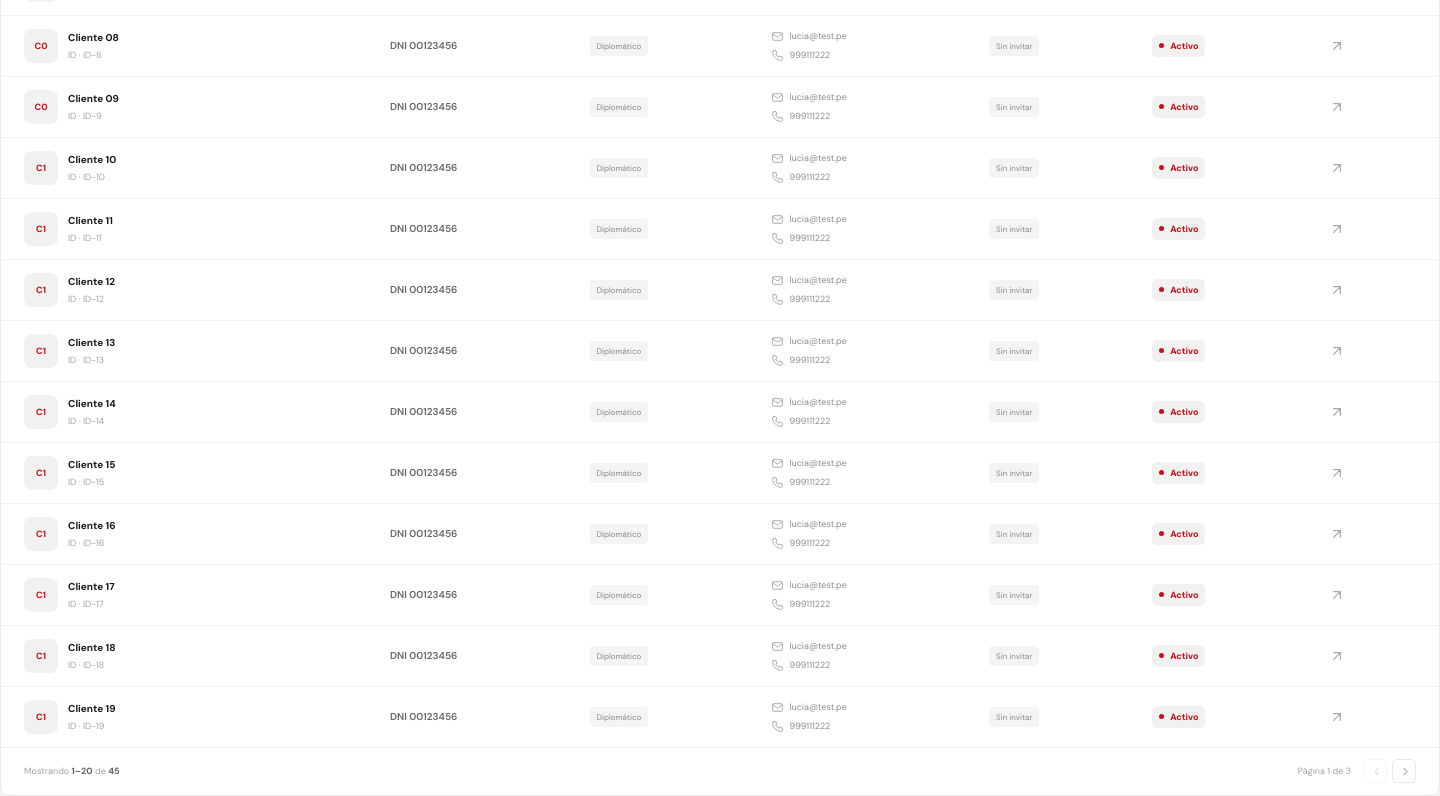
Test: listing › pages through results and returns to page 1 when a filter changes
(page scrolled)
Expected: the text "Página 1 de 3" is shown, [1298,765,1351,777]
Click the button named "Página siguiente" at coordinates (1404, 771), box [1392,759,1416,783]
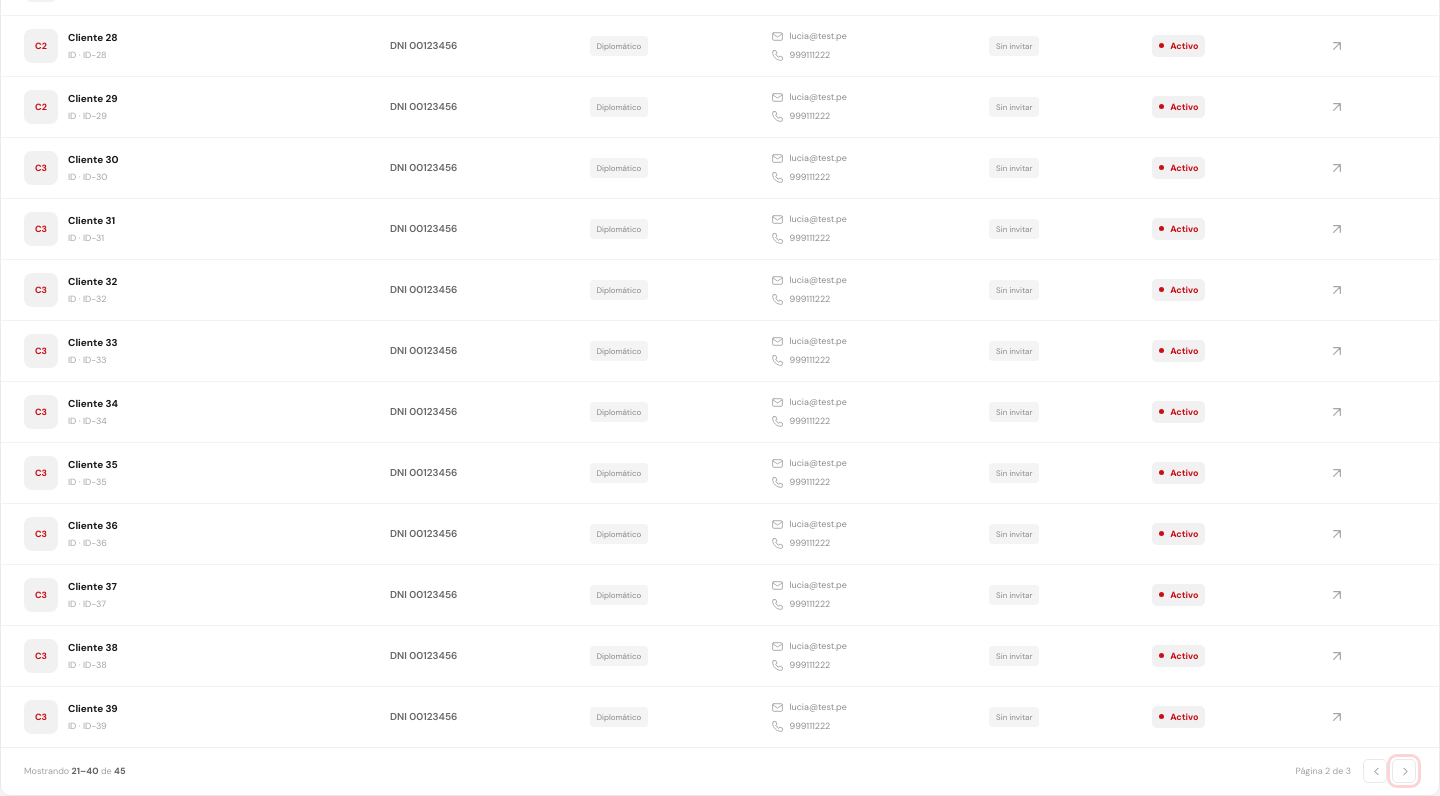
Result: the button named "Página anterior" is enabled at [1363,759,1387,783]
Click the button named "Página siguiente" at coordinates (1404, 771), box [1392,759,1416,783]
(page scrolled)
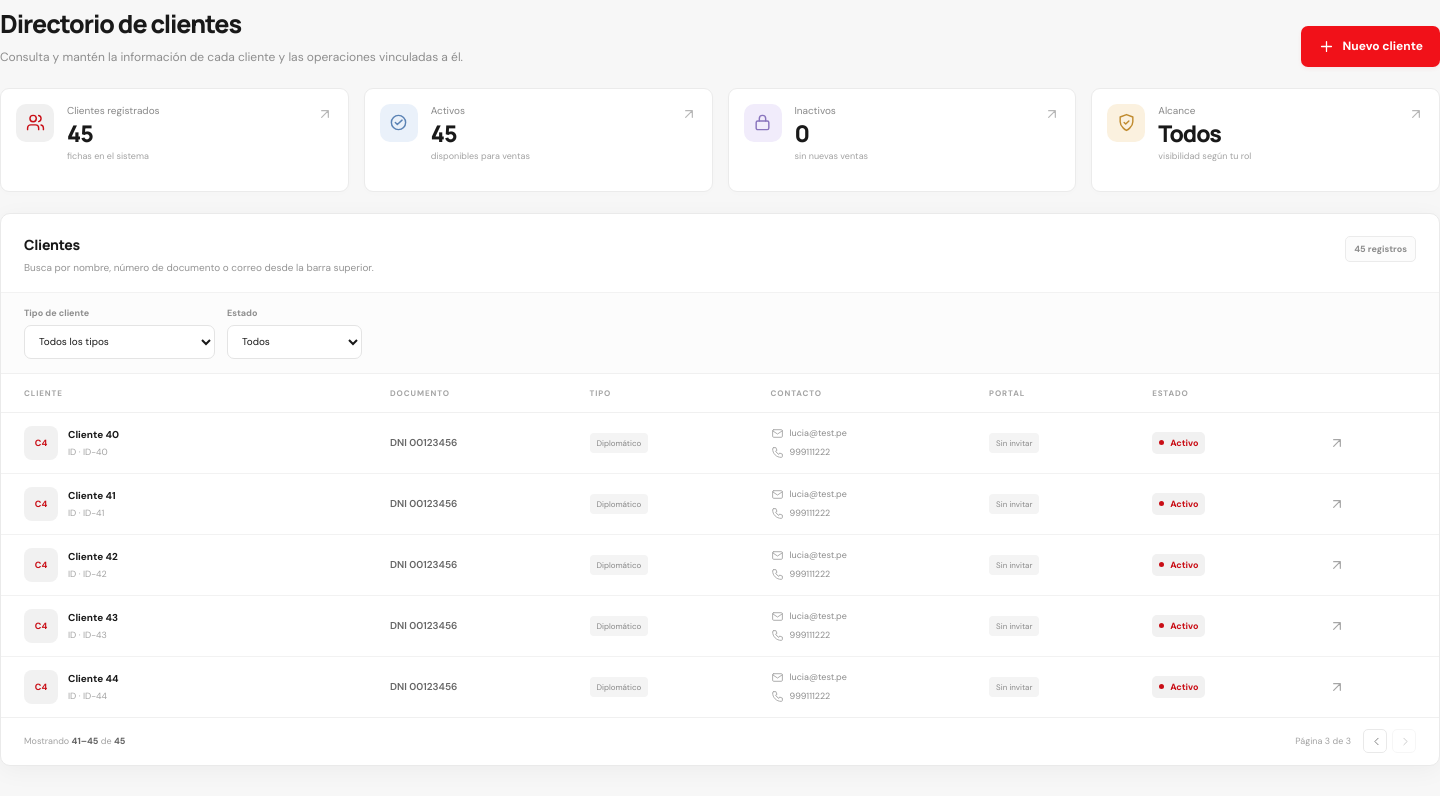
Expected: the button named "Página siguiente" is disabled, [1392,729,1416,753]
Result: the text "Cliente 40" is shown at [68,428,119,441]
Select "Activo" in the dropdown labelled "Estado" at coordinates (294, 342), box [227,325,362,359]
(page scrolled)
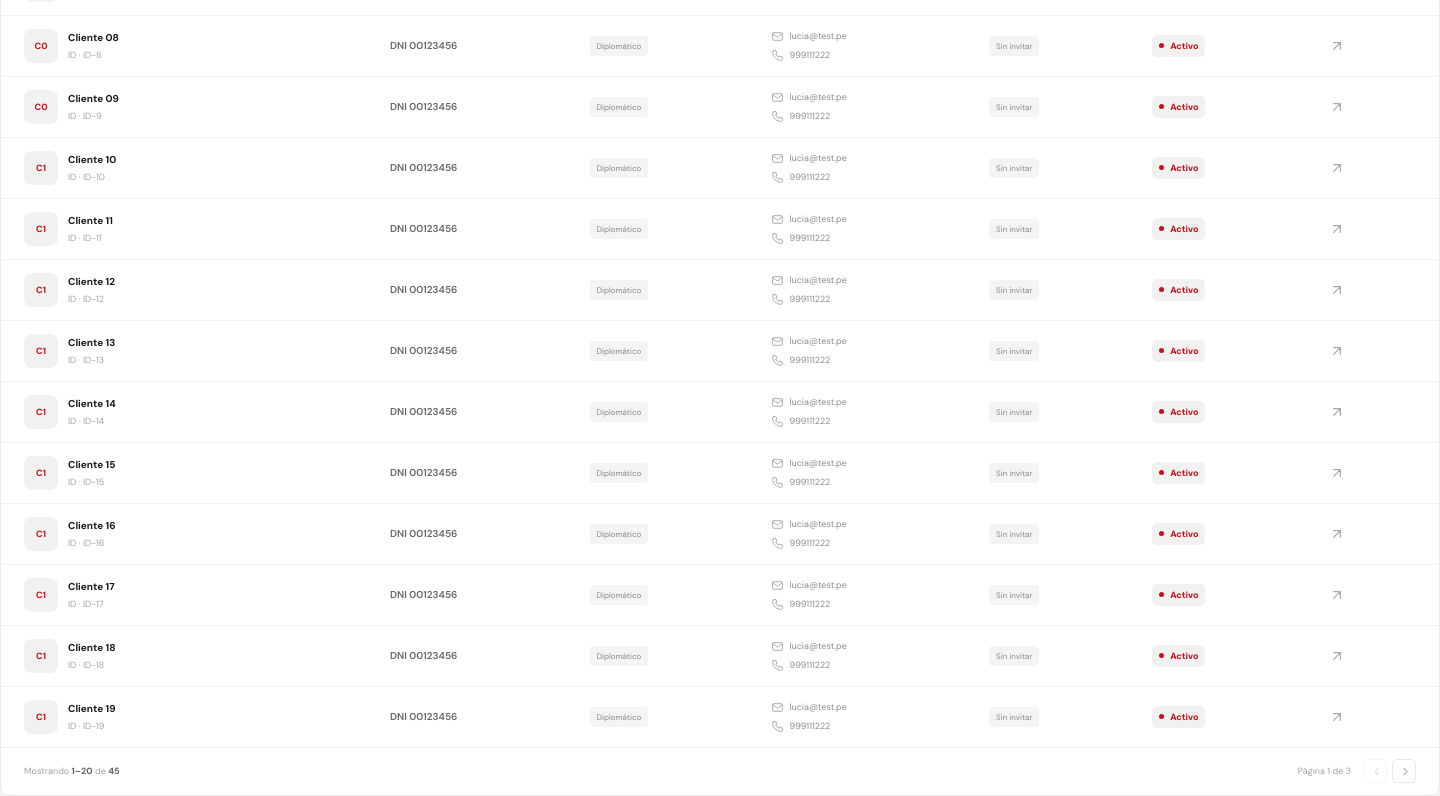
Result: the text "Página 1 de 3" is shown at [1298,765,1351,777]
